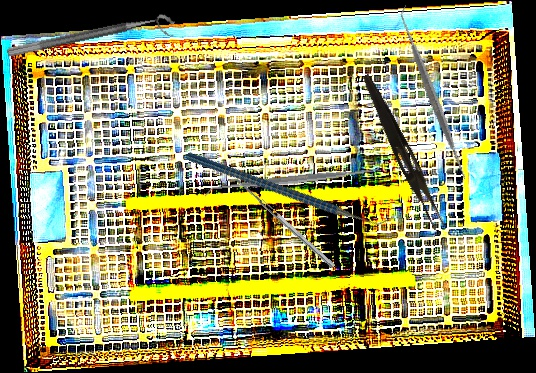Chopper: (185, 91, 395, 285)
Dressing Forceps: (354, 72, 451, 231)
Fixation Ring: (6, 11, 178, 72)
Spatula Surgical: (341, 5, 525, 186), (226, 172, 336, 273), (203, 160, 383, 200)
